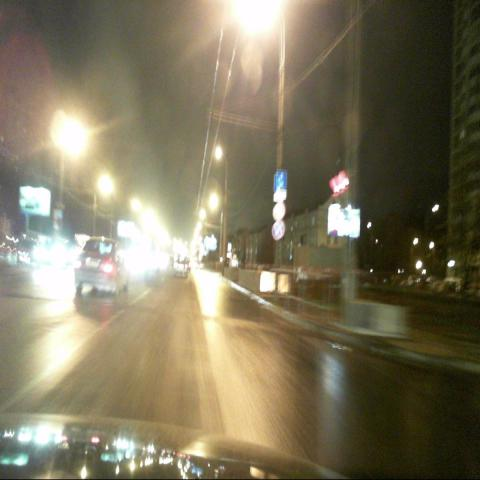3_27: (274, 221, 284, 240)
